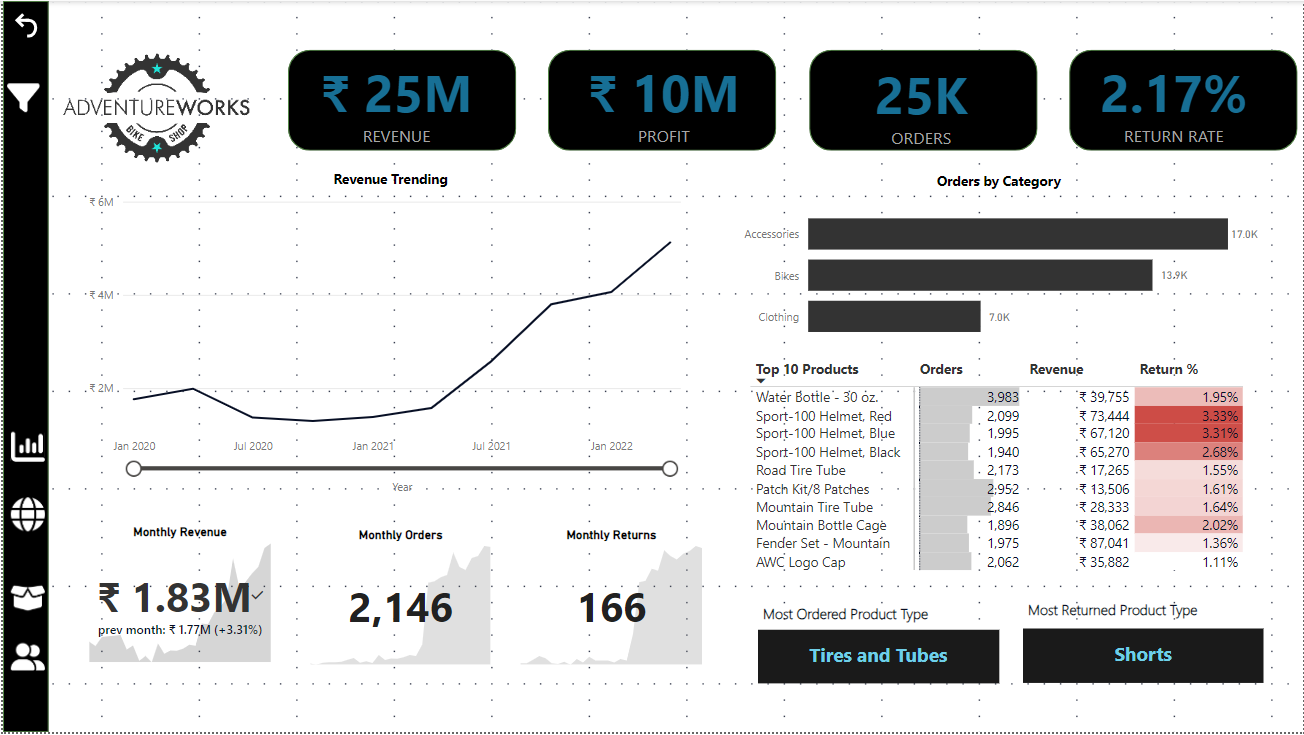

The dashboard page shown, as its layout file describes it:
{"tool":"powerbi","page":{"name":"Exec Dashboard","canvas":[1280,720],"ordinal":0},"visuals":[{"type":"image","title":"AW Logo","box":[34.1,7.1,234.7,196.3],"z":0},{"type":"card","fields":{"Values":["Measure Table.Total Revenue"]},"box":[259.2,23.2,256,150.8],"z":0,"group":"g2"},{"type":"group","id":"g1","title":"KPI Backgrounds","box":[280.5,47.1,994.1,99.6],"z":0,"group":"g3"},{"type":"shape","box":[280.5,47.1,224.7,99.6],"z":0,"group":"g1"},{"type":"actionButton","box":[3.7,406,41.6,66],"z":0,"group":"g4"},{"type":"shape","box":[0,0,45,720],"z":1000},{"type":"group","id":"g2","title":"KPI Values","box":[259.2,22.9,1020.8,151],"z":1000,"group":"g3"},{"type":"card","fields":{"Values":["Measure Table.Return Rate"]},"box":[1024.4,22.9,255.6,150.4],"z":1000,"group":"g2"},{"type":"shape","box":[537,47.1,224.7,99.6],"z":1000,"group":"g1"},{"type":"actionButton","box":[3.7,472,41.6,66],"z":1000,"group":"g4"},{"type":"group","id":"g3","title":"KPI","box":[259.2,22.9,1020.8,151],"z":2000},{"type":"card","fields":{"Values":["Measure Table.Total Profit"]},"box":[523,23,255.6,150.4],"z":2000,"group":"g2"},{"type":"shape","box":[793.4,47.1,224.7,99.6],"z":2000,"group":"g1"},{"type":"actionButton","box":[3.7,555.2,41.6,66],"z":2000,"group":"g4"},{"type":"card","fields":{"Values":["Measure Table.Total Orders"]},"box":[776.2,33.9,255.6,132.1],"z":3000,"group":"g2"},{"type":"shape","box":[1049.9,47.1,224.7,99.6],"z":3000,"group":"g1"},{"type":"lineChart","title":"Revenue Trending","fields":{"Y":["Measure Table.Total Revenue"],"Category":["Calendar Lookup.Date.Variation.Date Hierarchy.Year","Calendar Lookup.Date.Variation.Date Hierarchy.Quarter","Calendar Lookup.Date.Variation.Date Hierarchy.Month"]},"box":[79.5,166,603.1,320.7],"z":3000},{"type":"actionButton","box":[3.7,612.7,41.6,66],"z":3000,"group":"g4"},{"type":"kpi","title":"Monthly Revenue","fields":{"Indicator":["Measure Table.Total Revenue"],"TrendLine":["Calendar Lookup.Start of Month"],"Goal":["Measure Table.Previous Month Revenue"]},"box":[79.5,515.1,188.7,140.5],"z":4000},{"type":"kpi","title":"Monthly Orders","fields":{"TrendLine":["Calendar Lookup.Start of Month"],"Indicator":["Measure Table.Total Orders"]},"box":[298,518,187.3,140.5],"z":5000},{"type":"kpi","title":"Monthly Returns","fields":{"TrendLine":["Calendar Lookup.Start of Month"],"Indicator":["Measure Table.Total Returns"]},"box":[505.2,518,188.7,140.5],"z":6000},{"type":"clusteredBarChart","title":"Orders by Category","fields":{"Category":["Product Categories Lookup.CategoryName"],"Y":["Measure Table.Total Orders"]},"box":[719.5,167.5,520.8,181.6],"z":7000},{"type":"pivotTable","fields":{"Rows":["Product Lookup.ProductName"],"Values":["Measure Table.Total Orders","Measure Table.Total Revenue","Measure Table.Return Rate"]},"box":[731.3,348.5,497.7,221.3],"z":8000},{"type":"card","fields":{"Values":["Min(Product Subcategories Lookup.SubcategoryName)"]},"box":[743.5,618.8,237.2,52.6],"z":9000},{"type":"textbox","box":[1021,0,231,150],"z":10000},{"type":"textbox","box":[743.6,588.9,248.3,41.2],"z":11000},{"type":"card","fields":{"Values":["Min(Product Subcategories Lookup.SubcategoryName)"]},"box":[1004.7,617.3,237,53.9],"z":12000},{"type":"textbox","box":[1004.9,585,248.2,41.6],"z":13000},{"type":"actionButton","box":[0,0,45.2,47.7],"z":14000},{"type":"group","id":"g4","title":"Navigation buttons","box":[3.7,406,41.6,272.7],"z":15000},{"type":"actionButton","box":[0,74.6,45.2,40.4],"z":16000}]}

Visuals, with their boxes on the page's 1280x720 design canvas (x1, y1, x2, y2). These are canvas units, not pixel positions in the 1304x735 screenshot, which may show the page scaled, cropped or inside an application window:
"AW Logo" image: left=34, top=7, right=269, bottom=203
card - Measure Table.Total Revenue: left=259, top=23, right=515, bottom=174
"KPI Backgrounds" group: left=280, top=47, right=1275, bottom=147
shape: left=280, top=47, right=505, bottom=147
actionButton: left=4, top=406, right=45, bottom=472
shape: left=0, top=0, right=45, bottom=720
"KPI Values" group: left=259, top=23, right=1280, bottom=174
card - Measure Table.Return Rate: left=1024, top=23, right=1280, bottom=173
shape: left=537, top=47, right=762, bottom=147
actionButton: left=4, top=472, right=45, bottom=538
"KPI" group: left=259, top=23, right=1280, bottom=174
card - Measure Table.Total Profit: left=523, top=23, right=779, bottom=173
shape: left=793, top=47, right=1018, bottom=147
actionButton: left=4, top=555, right=45, bottom=621
card - Measure Table.Total Orders: left=776, top=34, right=1032, bottom=166
shape: left=1050, top=47, right=1275, bottom=147
"Revenue Trending" lineChart: left=80, top=166, right=683, bottom=487
actionButton: left=4, top=613, right=45, bottom=679
"Monthly Revenue" kpi: left=80, top=515, right=268, bottom=656
"Monthly Orders" kpi: left=298, top=518, right=485, bottom=658
"Monthly Returns" kpi: left=505, top=518, right=694, bottom=658
"Orders by Category" clusteredBarChart: left=720, top=168, right=1240, bottom=349
pivotTable - Product Lookup.ProductName x Measure Table.Total Orders: left=731, top=348, right=1229, bottom=570
card - Min(Product Subcategories Lookup.SubcategoryName): left=744, top=619, right=981, bottom=671
textbox: left=1021, top=0, right=1252, bottom=150
textbox: left=744, top=589, right=992, bottom=630
card - Min(Product Subcategories Lookup.SubcategoryName): left=1005, top=617, right=1242, bottom=671
textbox: left=1005, top=585, right=1253, bottom=627
actionButton: left=0, top=0, right=45, bottom=48
"Navigation buttons" group: left=4, top=406, right=45, bottom=679
actionButton: left=0, top=75, right=45, bottom=115
